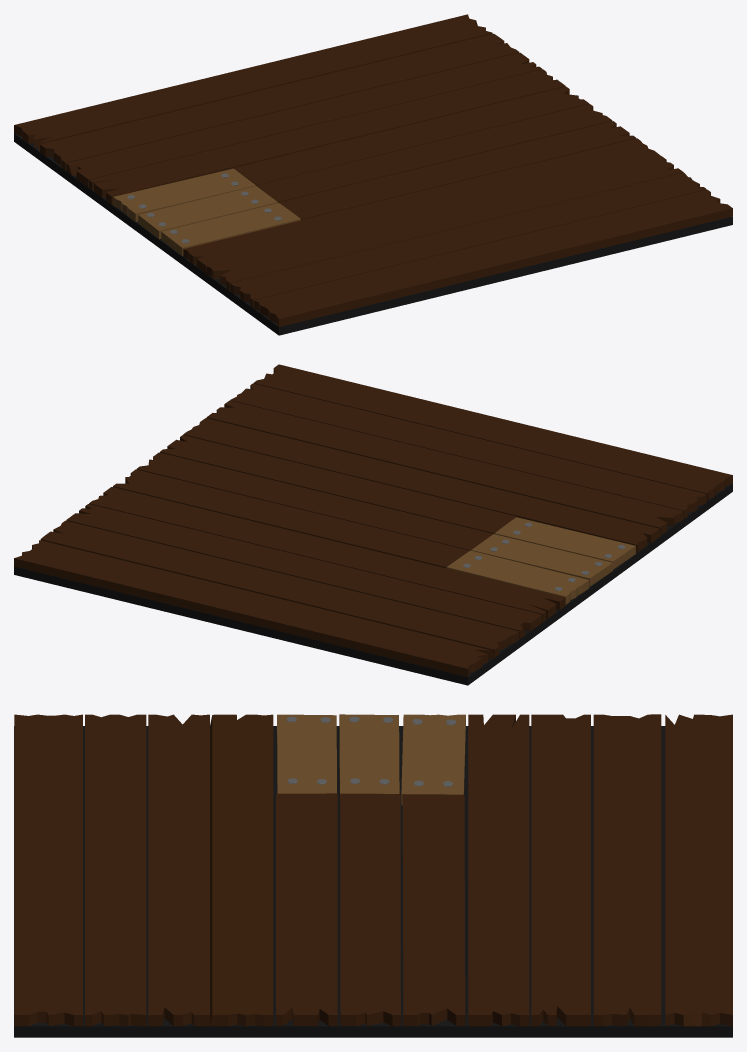
The model's file is floor_tier2.fbx.
3 renders of one model, top to bottom at view 1: azimuth 30°, elevation 25°; view 2: azimuth 150°, elevation 25°; view 3: azimuth 270°, elevation 25°, orthographic. The views are drawn at different scales.
Visible parts, largest first — view 1: Cube.002, Cube.014, Cube.011, Cube.009, Cube.005, Cube.003, Cube.004, Cube.010, Cube.006, Cube.008, Cube.007, Cube (+3 smaller); view 2: Cube.014, Cube.011, Cube.002, Cube.004, Cube.005, Cube.009, Cube.003, Cube.010, Cube.008, Cube.006, Cube.007, Cube (+3 smaller); view 3: Cube.011, Cube.002, Cube.014, Cube.005, Cube.009, Cube.003, Cube.004, Cube, Cube.010, Cube.008, Cube.006, Cube.007 (+3 smaller).
Boxes of the visible parts, x1=… form: Cube.002: x1=253, y1=189, x2=732, y2=326; Cube.014: x1=14, y1=14, x2=492, y2=151; Cube.011: x1=40, y1=33, x2=519, y2=170; Cube.009: x1=89, y1=69, x2=565, y2=204; Cube.005: x1=183, y1=138, x2=659, y2=273; Cube.003: x1=230, y1=172, x2=706, y2=307; Cube.004: x1=206, y1=155, x2=683, y2=290; Cube.010: x1=66, y1=52, x2=542, y2=187; Cube.006: x1=279, y1=121, x2=636, y2=220; Cube.008: x1=234, y1=86, x2=589, y2=185; Cube.007: x1=256, y1=104, x2=612, y2=202; Cube: x1=14, y1=133, x2=732, y2=335; Cube.014: x1=14, y1=540, x2=493, y2=676; Cube.011: x1=40, y1=520, x2=519, y2=657; Cube.002: x1=253, y1=364, x2=732, y2=501; Cube.004: x1=206, y1=400, x2=683, y2=535; Cube.005: x1=183, y1=418, x2=660, y2=552; Cube.009: x1=89, y1=487, x2=565, y2=621; Cube.003: x1=230, y1=383, x2=706, y2=518; Cube.010: x1=66, y1=504, x2=542, y2=638; Cube.008: x1=113, y1=469, x2=469, y2=568; Cube.006: x1=160, y1=435, x2=516, y2=533; Cube.007: x1=136, y1=452, x2=492, y2=550; Cube: x1=14, y1=483, x2=732, y2=685; Cube.011: x1=593, y1=714, x2=661, y2=1026; Cube.002: x1=14, y1=714, x2=82, y2=1026; Cube.014: x1=665, y1=714, x2=732, y2=1026; Cube.005: x1=210, y1=714, x2=273, y2=1026; Cube.009: x1=468, y1=714, x2=529, y2=1026; Cube.003: x1=85, y1=714, x2=146, y2=1026; Cube.004: x1=148, y1=714, x2=209, y2=1026; Cube: x1=14, y1=726, x2=732, y2=1037; Cube.010: x1=531, y1=714, x2=590, y2=1026; Cube.008: x1=402, y1=794, x2=465, y2=1025; Cube.006: x1=276, y1=793, x2=337, y2=1025; Cube.007: x1=340, y1=793, x2=400, y2=1025.
Bounding box in the file's own units: 655 × 24.79 × 662.
